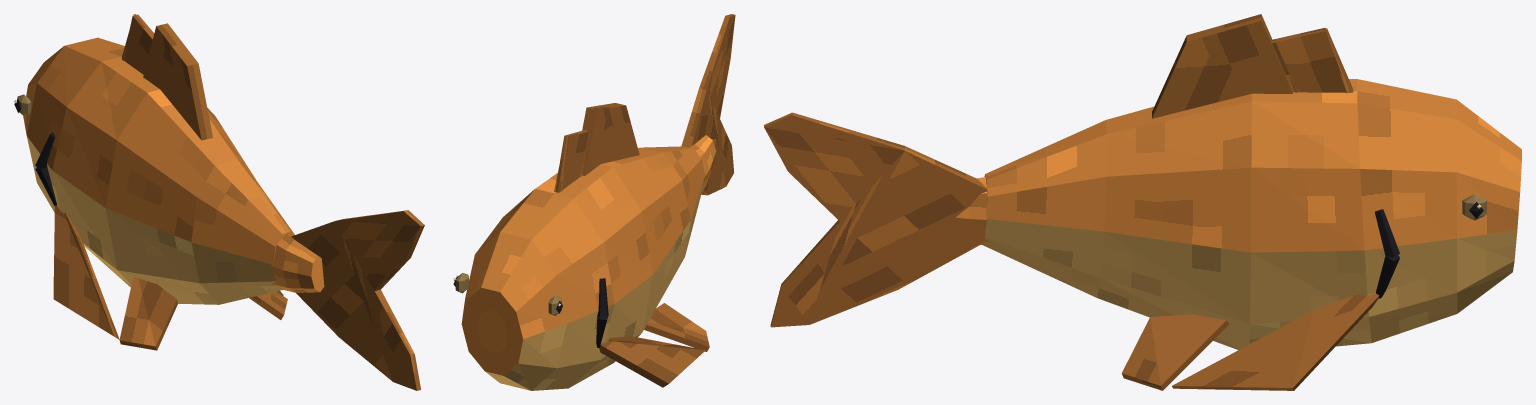
File: mon_fish_goldfish.glb
3 renders of one model, left to right at view 1: azimuth 30°, elevation 25°; view 2: azimuth 150°, elevation 25°; view 3: azimuth 270°, elevation 25°, orthographic. The views are drawn at different scales.
Parts seen in each view (by area): view 1: closed_body; view 2: closed_body; view 3: closed_body.
Boxes of the visible parts, box(x1,y1,x2,y2) form: closed_body: box(14, 14, 424, 390); closed_body: box(453, 14, 735, 390); closed_body: box(764, 14, 1521, 390).
Bounding box in the file's own units: 0.128 × 0.173 × 0.3647.
Materials: 1 (1 with a texture image).
